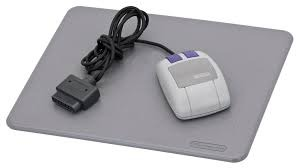mouse: (155, 45, 233, 123)
